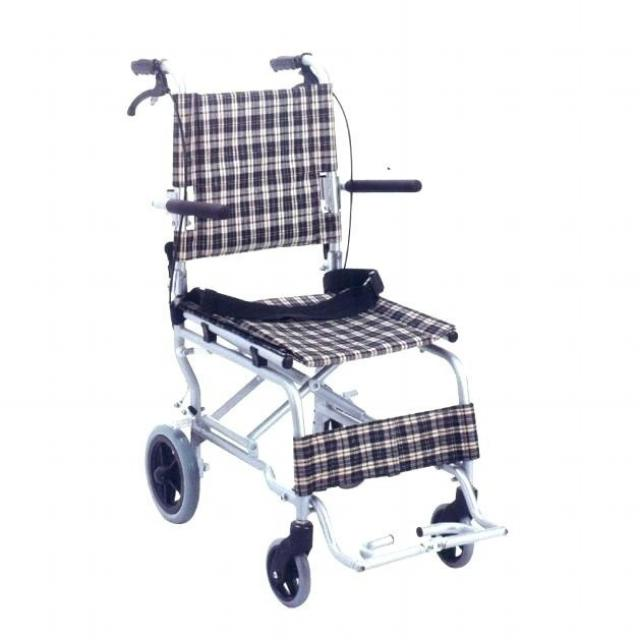wheelchair: (120, 40, 530, 610)
